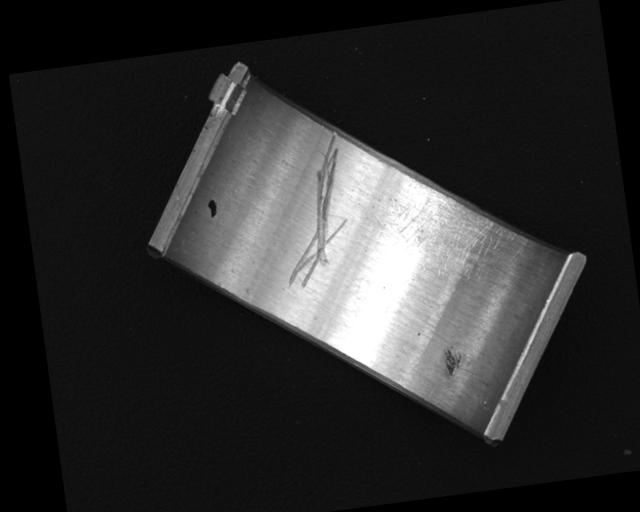blot: (205, 196, 219, 219)
bruise: (440, 345, 464, 377)
nick: (268, 125, 356, 290)
scratch: (383, 177, 530, 290)
